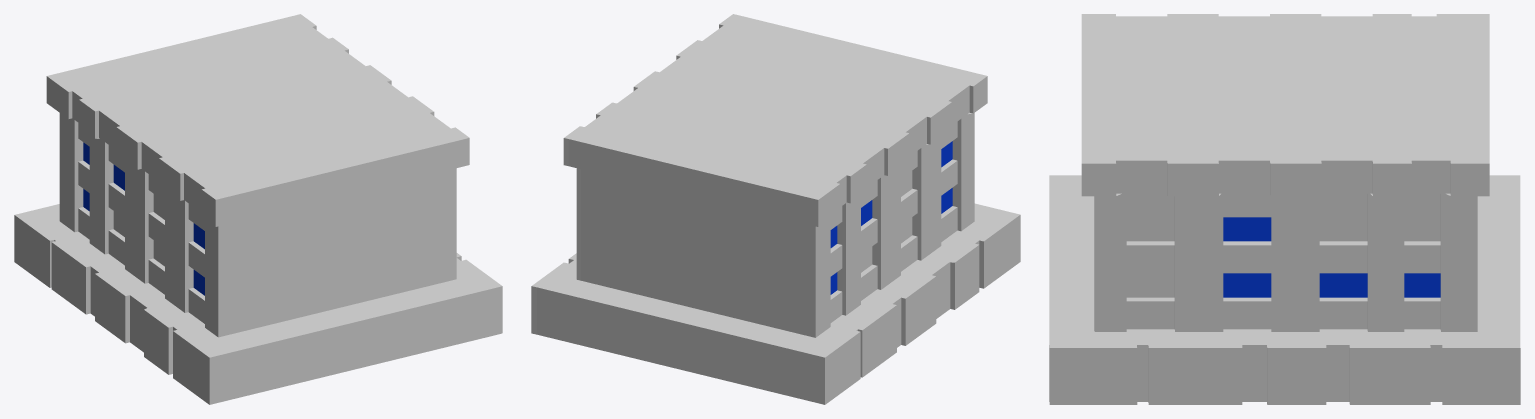
File: Ground_Floor_low.fbx
3 views of the same model, side by side, from view 1: azimuth 30°, elevation 25°; view 2: azimuth 150°, elevation 25°; view 3: azimuth 270°, elevation 25° (orthographic). The views are drawn at different scales.
Parts seen in each view (by area): view 1: GroundFloor_low; view 2: GroundFloor_low; view 3: GroundFloor_low.
Part boxes in pixels (box(x1,y1,x2,y2)): GroundFloor_low: box(14, 14, 502, 404); GroundFloor_low: box(531, 14, 1020, 404); GroundFloor_low: box(1049, 14, 1520, 404).
Bounding box in the file's own units: 2690 × 1672 × 3104.
